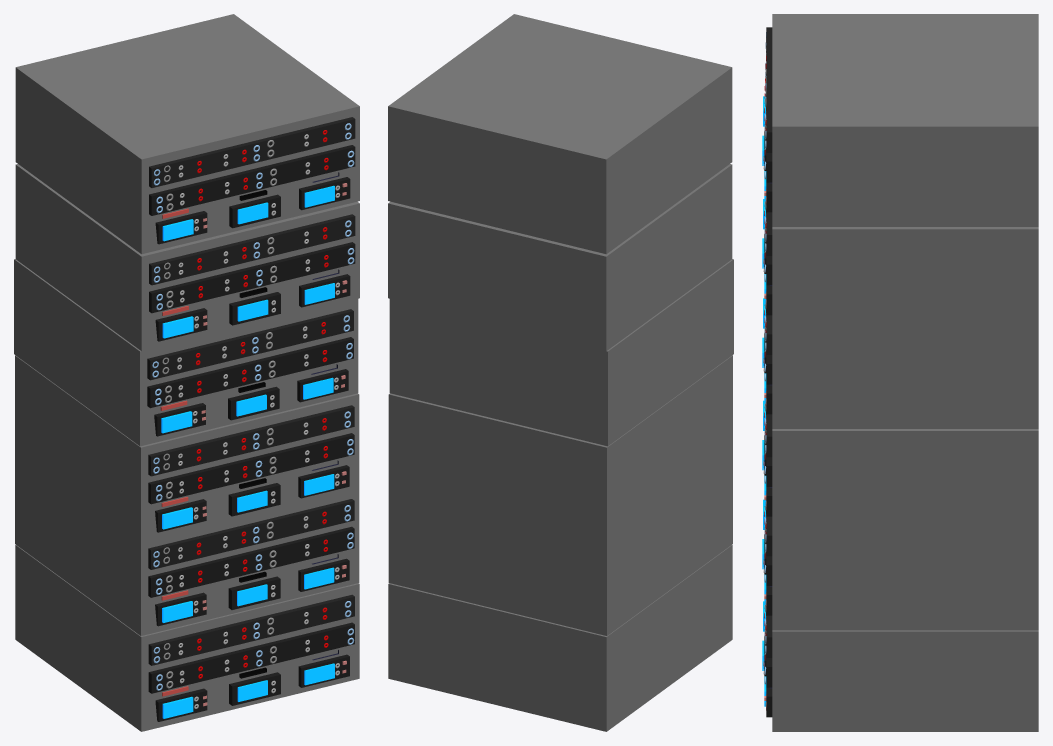
Rendered from servidores.glb.
3 views of the same model, side by side, from view 1: azimuth 30°, elevation 25°; view 2: azimuth 150°, elevation 25°; view 3: azimuth 270°, elevation 25° (orthographic). The views are drawn at different scales.
Visible parts, largest first — view 1: Cylinder.019; view 2: Cylinder.019; view 3: Cylinder.019.
Part boxes in pixels (x1=…): Cylinder.019: x1=14, y1=14, x2=359, y2=731; Cylinder.019: x1=388, y1=14, x2=733, y2=731; Cylinder.019: x1=762, y1=14, x2=1038, y2=731.
Bounding box in the file's own units: 2.01 × 5.01 × 2.08.
